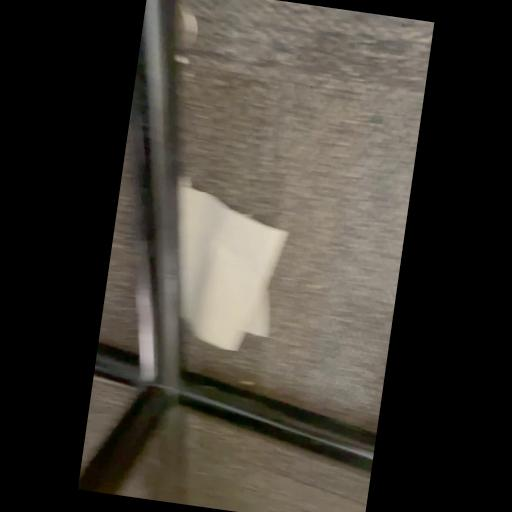napkin: (156, 182, 294, 360)
